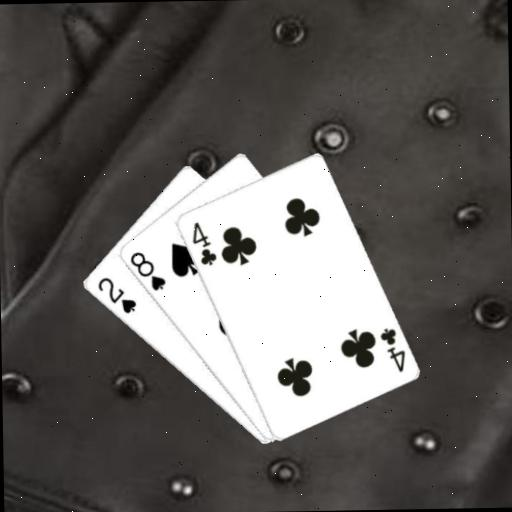2S: (94, 274, 138, 316)
4C: (376, 324, 407, 375), (189, 219, 218, 268)
8S: (126, 248, 167, 294)
